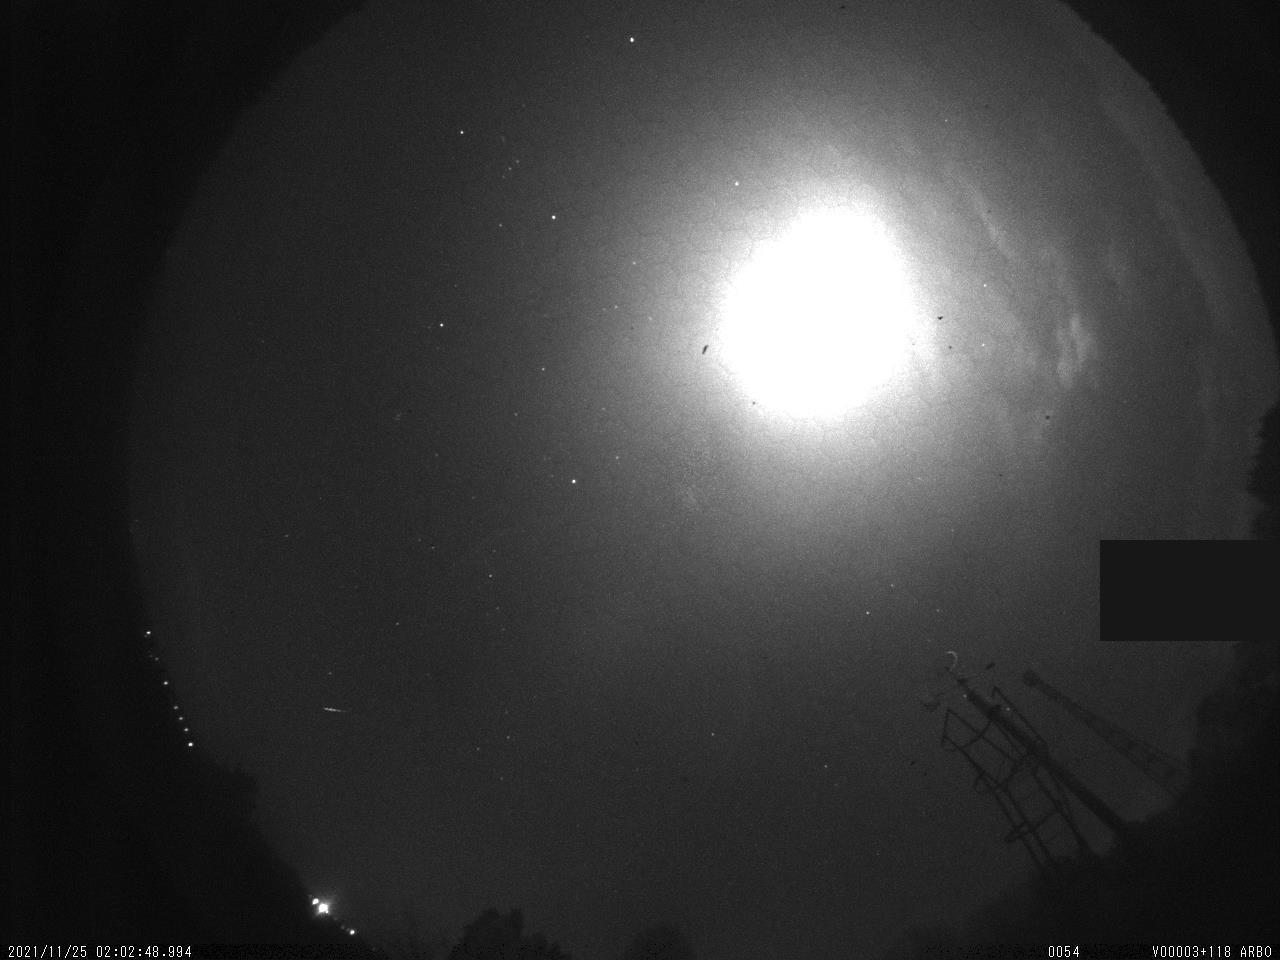Meteor: (318, 699, 353, 720)
